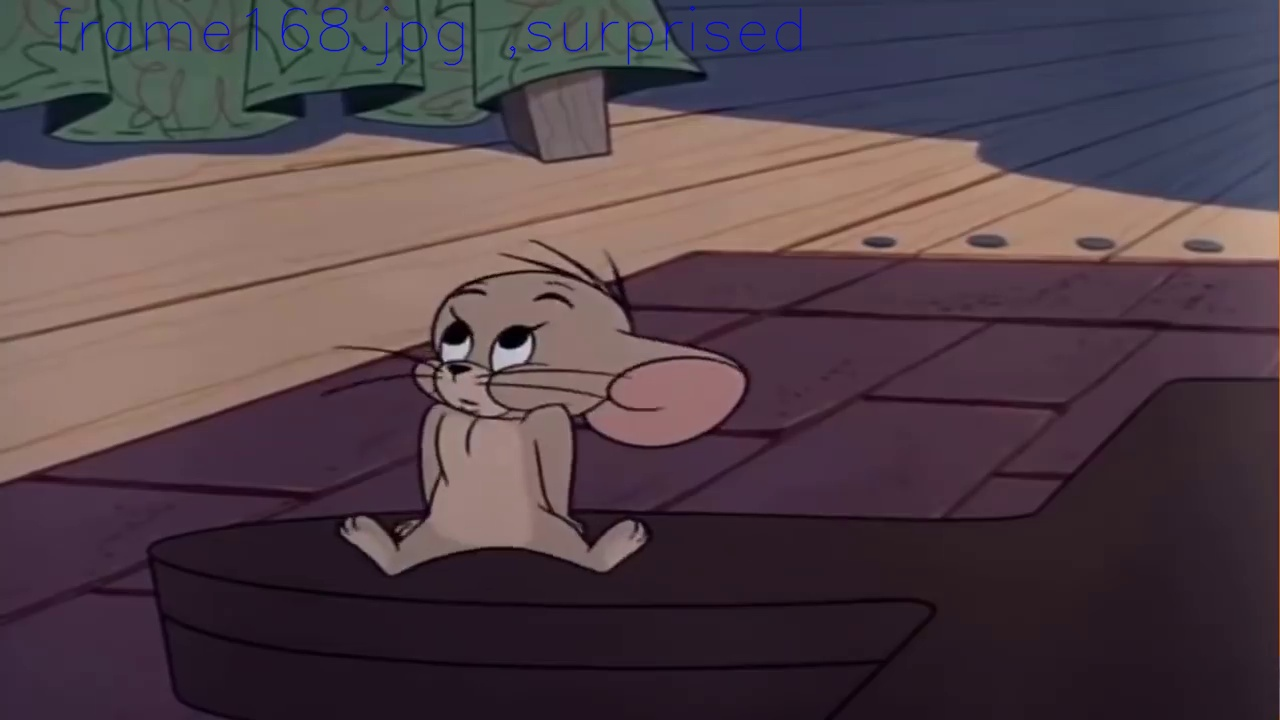surprised: (438, 279, 578, 421)
